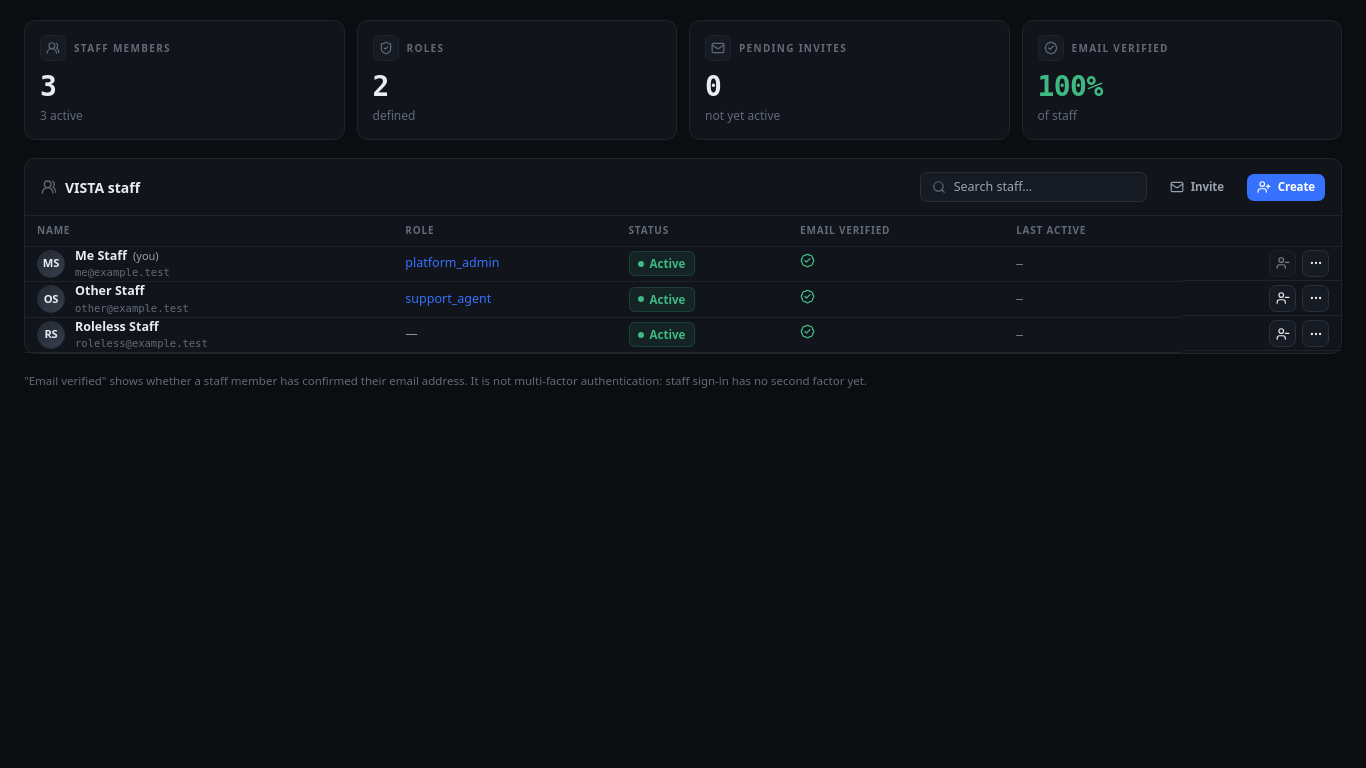
Staff role gating › locks your own role unless you are a super_admin
The width and height of the screenshot is (1366, 768).
Click the button with class "op-btn" in the row of "MS": (1316, 263) [1302,250,1329,276]
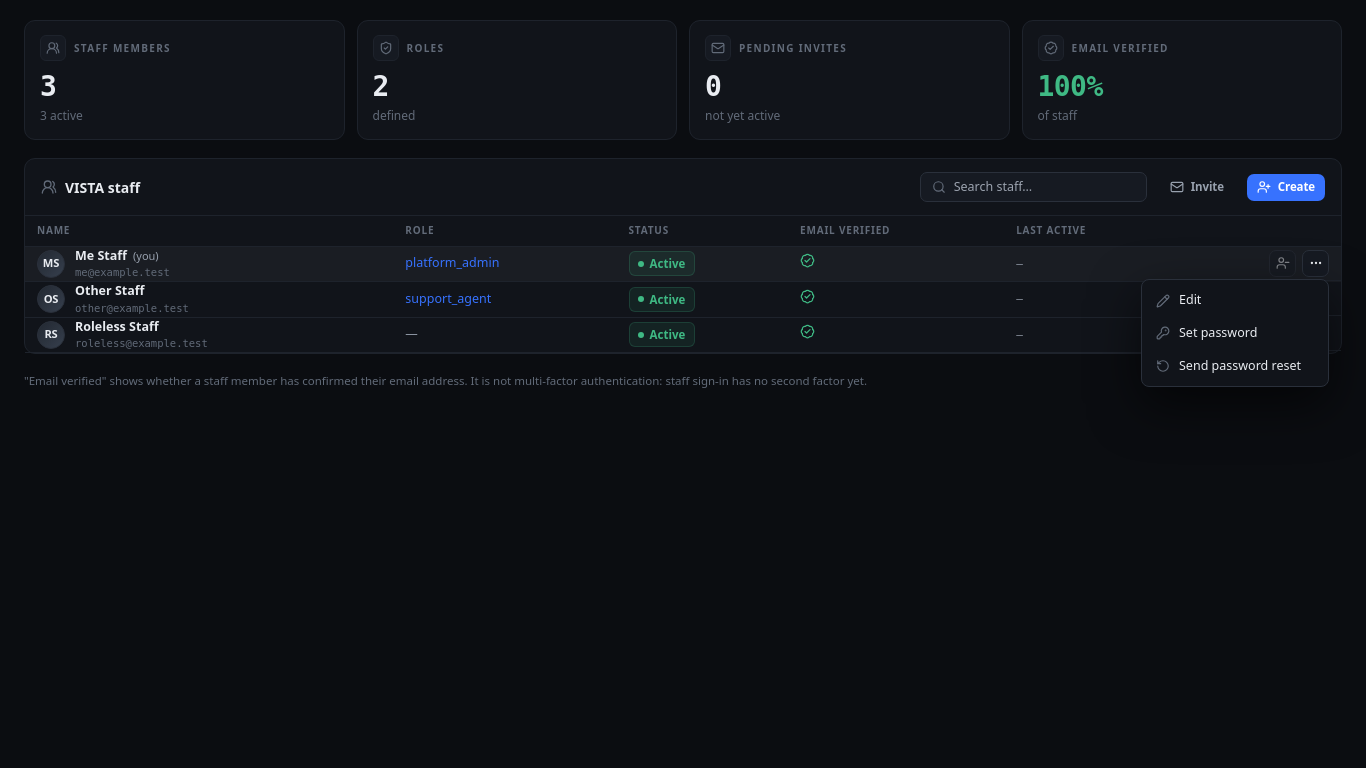
Click the button "Edit": (1235, 301) [1146,284,1324,317]
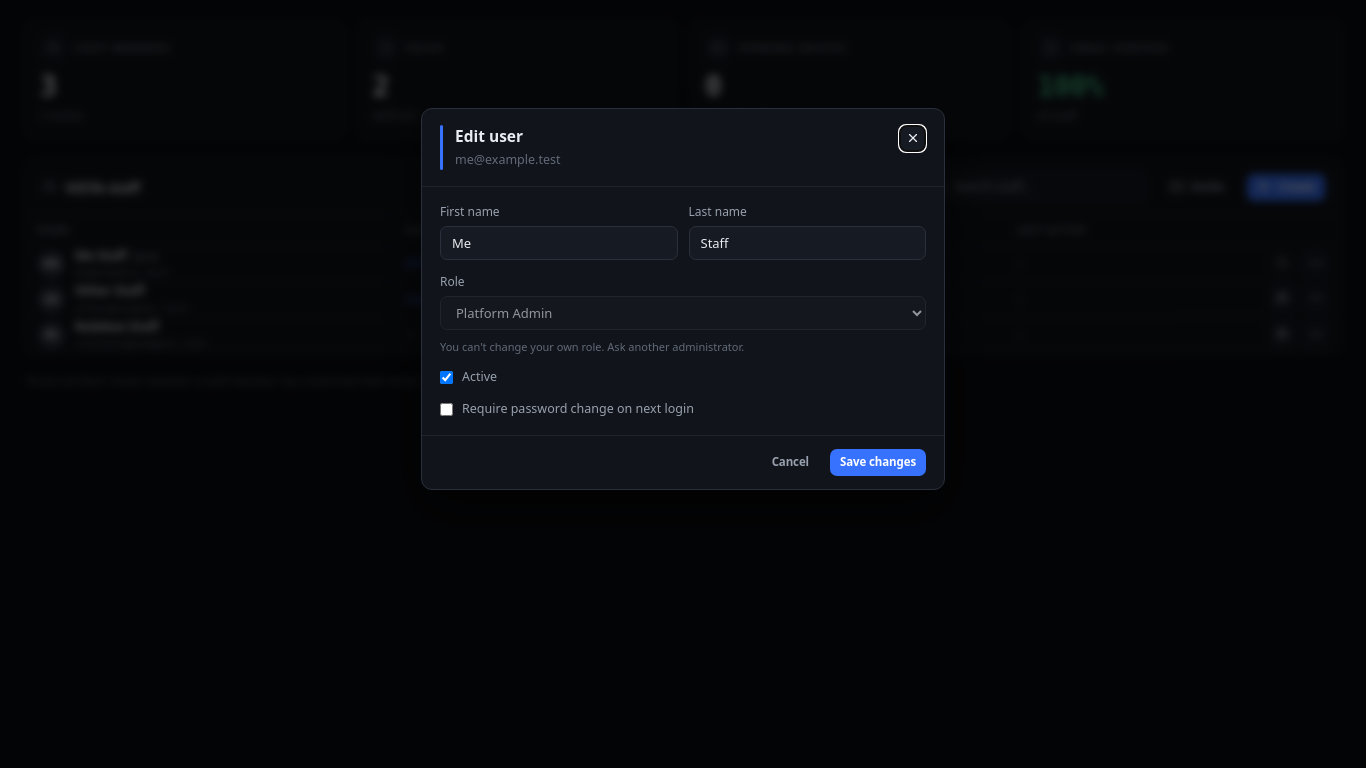
expect the dropdown named "Role" is disabled: met, box [440,296,926,330]
expect the text "You can't change your own role" is shown: met, box [440,338,744,354]
